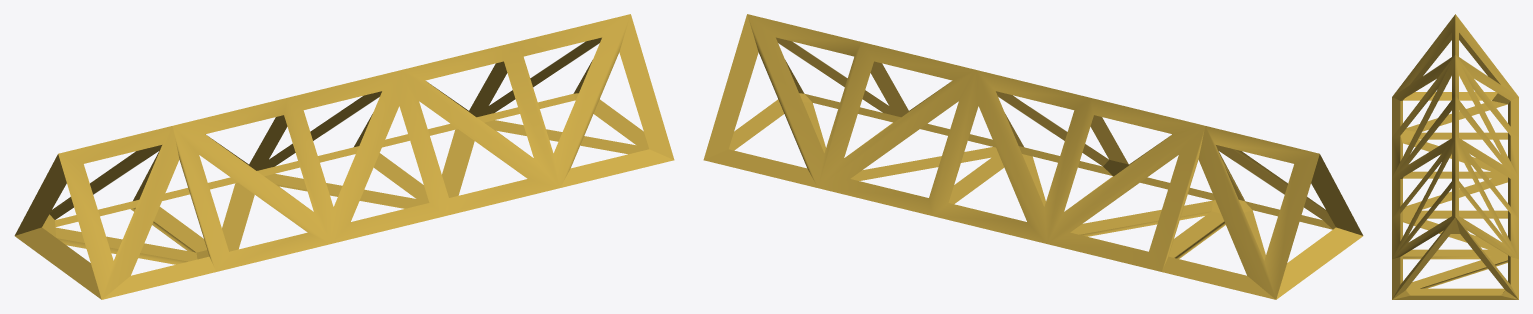
The model's file is pidstavkayellow.fbx.
3 views of the same model, side by side, from view 1: azimuth 30°, elevation 25°; view 2: azimuth 150°, elevation 25°; view 3: azimuth 270°, elevation 25° (orthographic). The views are drawn at different scales.
Parts seen in each view (by area): view 1: pidstavkay; view 2: pidstavkay; view 3: pidstavkay.
Boxes of the visible parts, bbox=[...] form: pidstavkay: bbox=[14, 14, 674, 299]; pidstavkay: bbox=[703, 14, 1363, 299]; pidstavkay: bbox=[1392, 14, 1518, 299].
Size of the model in its own units: 51.74 by 9.86 by 13.66.
1 material, 1 textured.
